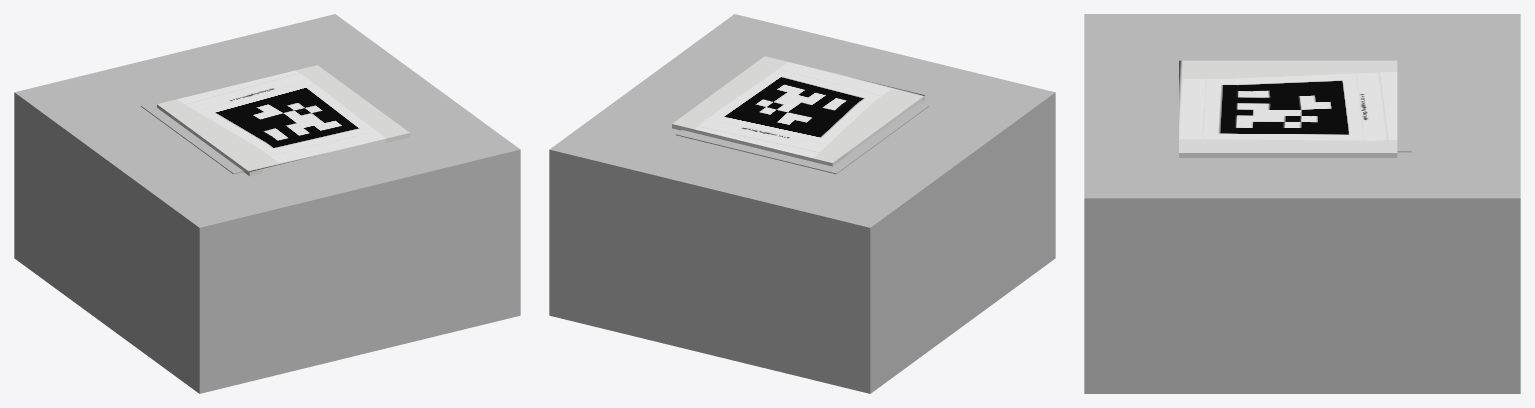
Rendered from apriltag_mesh6.dae.
3 renders of one model, left to right at view 1: azimuth 30°, elevation 25°; view 2: azimuth 150°, elevation 25°; view 3: azimuth 270°, elevation 25°, orthographic. The views are drawn at different scales.
Parts seen in each view (by area): view 1: node; view 2: node; view 3: node.
Part boxes in pixels (x1,y1,x2,y2): node: [14, 14, 520, 393]; node: [549, 14, 1055, 393]; node: [1084, 14, 1520, 393].
Size of the model in its own units: 2 by 1.02 by 2.
Materials: 2 (1 with a texture image).
